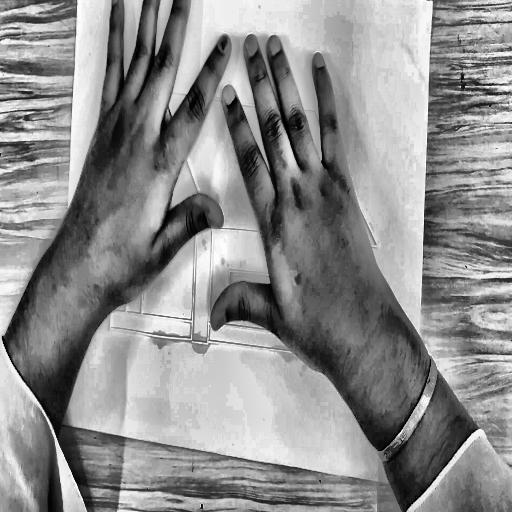bottom_left: (54, 410, 65, 429)
bottom_right: (417, 479, 424, 493)
house: (89, 27, 393, 377)
top_right: (432, 0, 434, 4)
